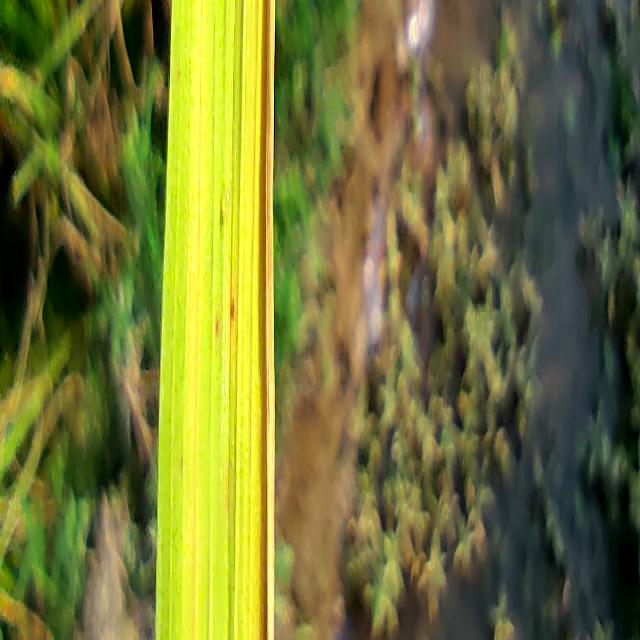BLB: (258, 0, 275, 640)
